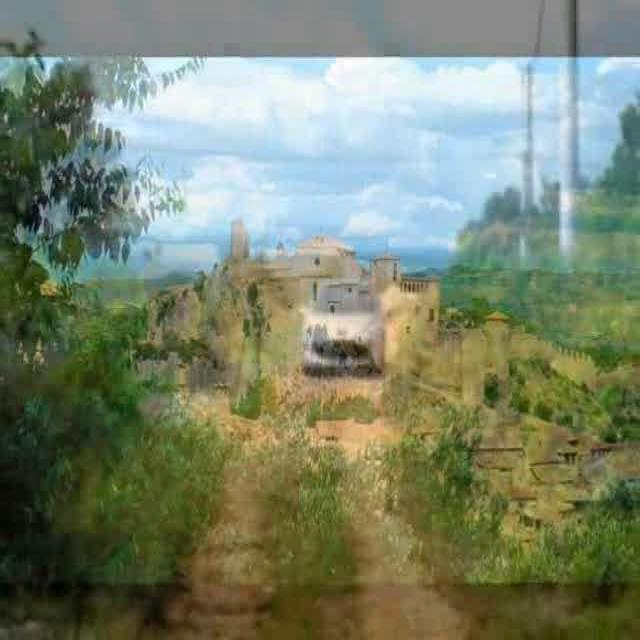other: (364, 280, 458, 372)
